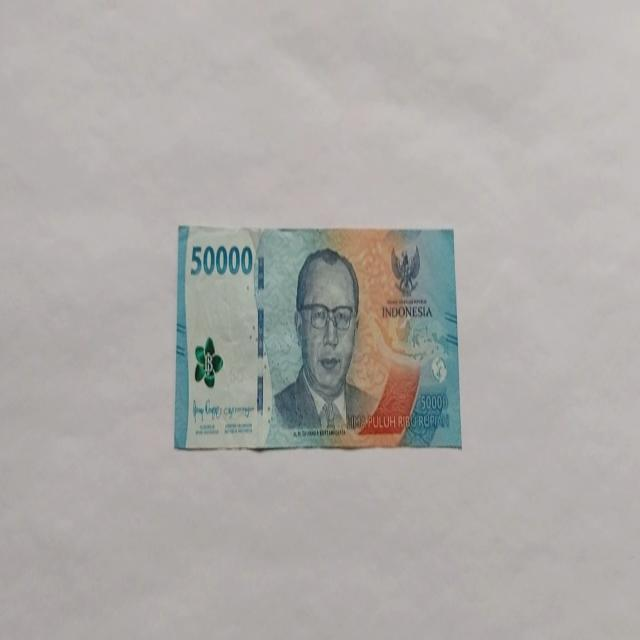lima puluh ribu rupiah: (174, 222, 462, 452), (268, 245, 380, 439)
